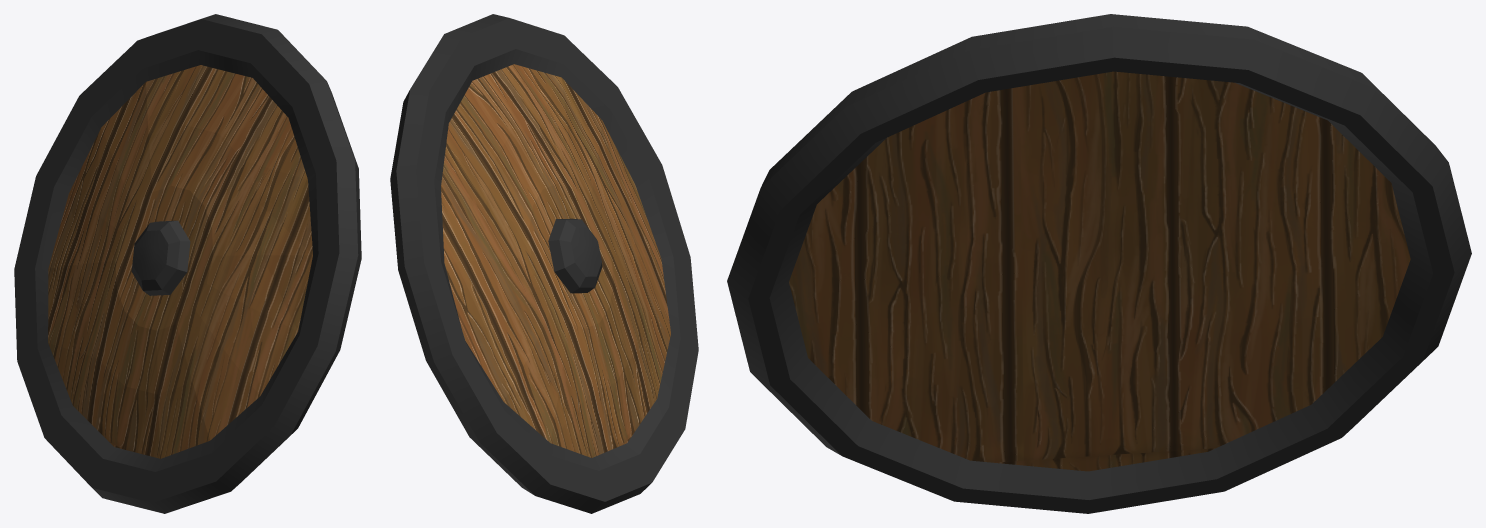
File: Shield_1.fbx
3 views of the same model, side by side, from view 1: azimuth 30°, elevation 25°; view 2: azimuth 150°, elevation 25°; view 3: azimuth 270°, elevation 25° (orthographic). The views are drawn at different scales.
Parts seen in each view (by area): view 1: 1_Shield; view 2: 1_Shield; view 3: 1_Shield.
Part boxes in pixels (x1,y1,x2,y2): 1_Shield: [14, 14, 361, 513]; 1_Shield: [390, 14, 698, 513]; 1_Shield: [727, 14, 1471, 513].
Size of the model in its own units: 25.11 by 48.85 by 53.66.
